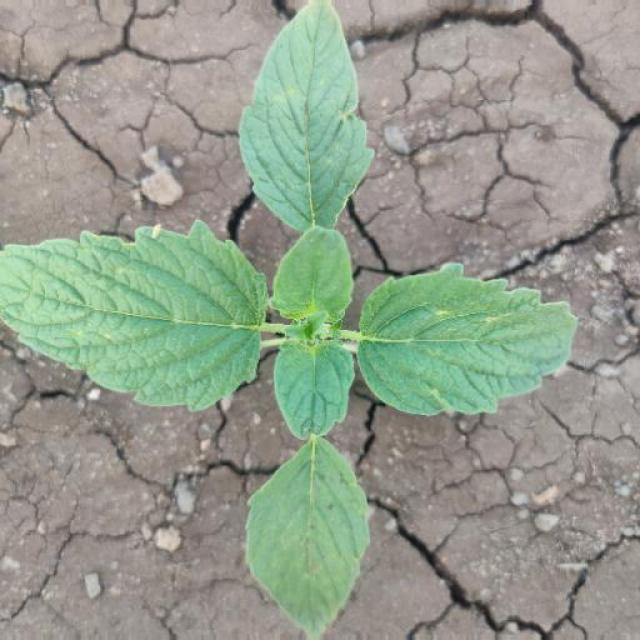crop: (5, 1, 565, 629)
